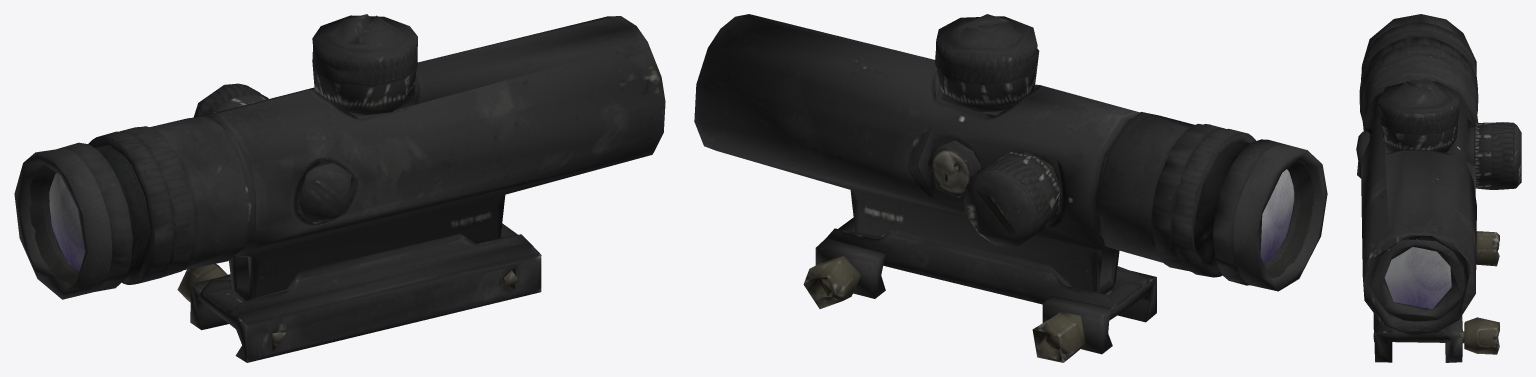
Rendered from Rifle_2XScope.fbx.
3 renders of one model, left to right at view 1: azimuth 30°, elevation 25°; view 2: azimuth 150°, elevation 25°; view 3: azimuth 270°, elevation 25°, orthographic. The views are drawn at different scales.
Visible parts, largest first — view 1: 2xScope; view 2: 2xScope; view 3: 2xScope.
Boxes of the visible parts, <box> form: 2xScope: <box>14,14,665,362</box>; 2xScope: <box>694,14,1327,362</box>; 2xScope: <box>1356,14,1521,362</box>.
Size of the model in its own units: 0.1017 by 0.0482 by 0.0325.
